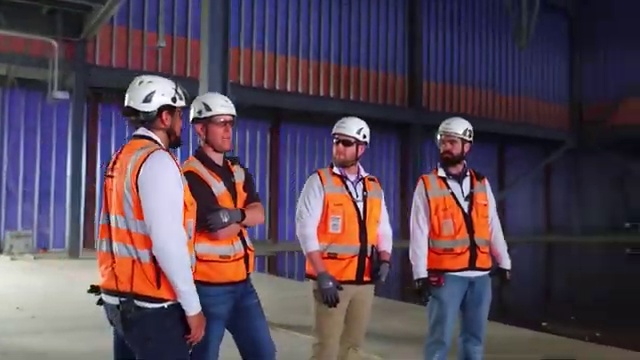helmet: (116, 58, 191, 116), (188, 86, 241, 123), (434, 114, 482, 144), (331, 114, 382, 142)
jacket: (97, 132, 195, 310), (185, 150, 280, 284), (313, 164, 392, 294), (418, 171, 504, 278)
